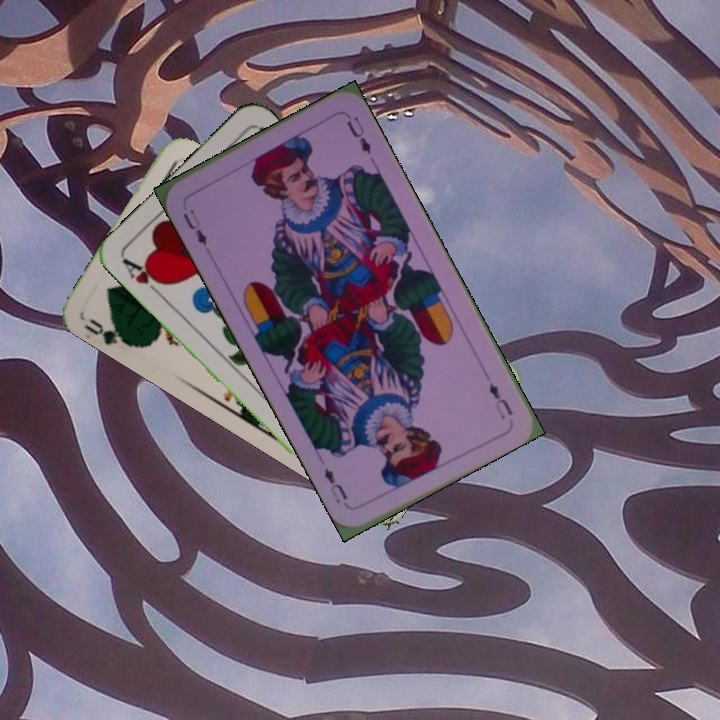EU: (178, 205, 210, 249), (484, 378, 515, 422)
GO: (79, 314, 136, 350)
HA: (119, 254, 168, 300)
